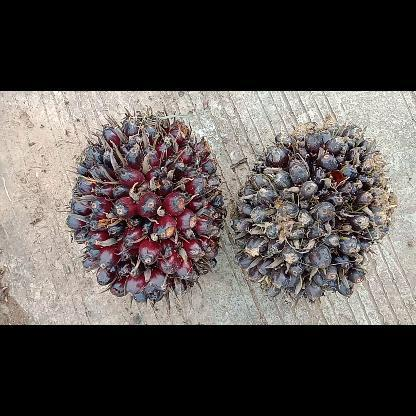TBS mentah: (62, 108, 228, 304), (228, 119, 398, 302)
